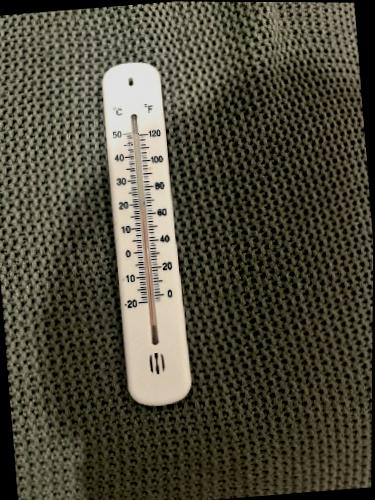thermo: (92, 59, 192, 406)
